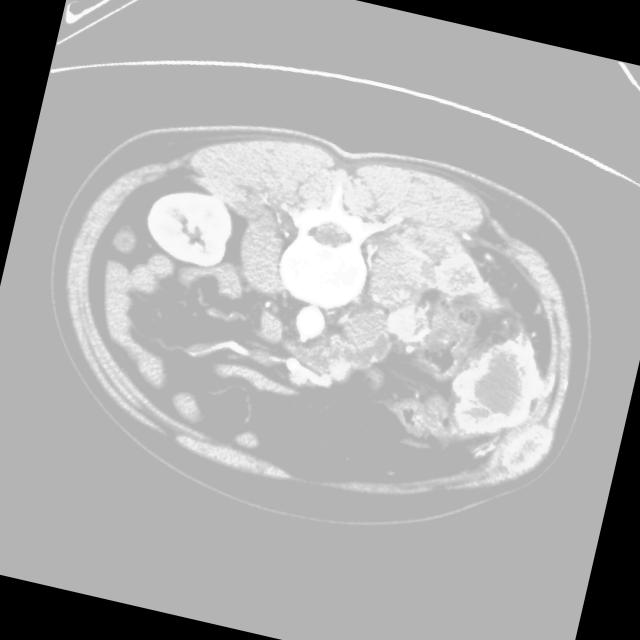TUMOR: (105, 202, 583, 468)
